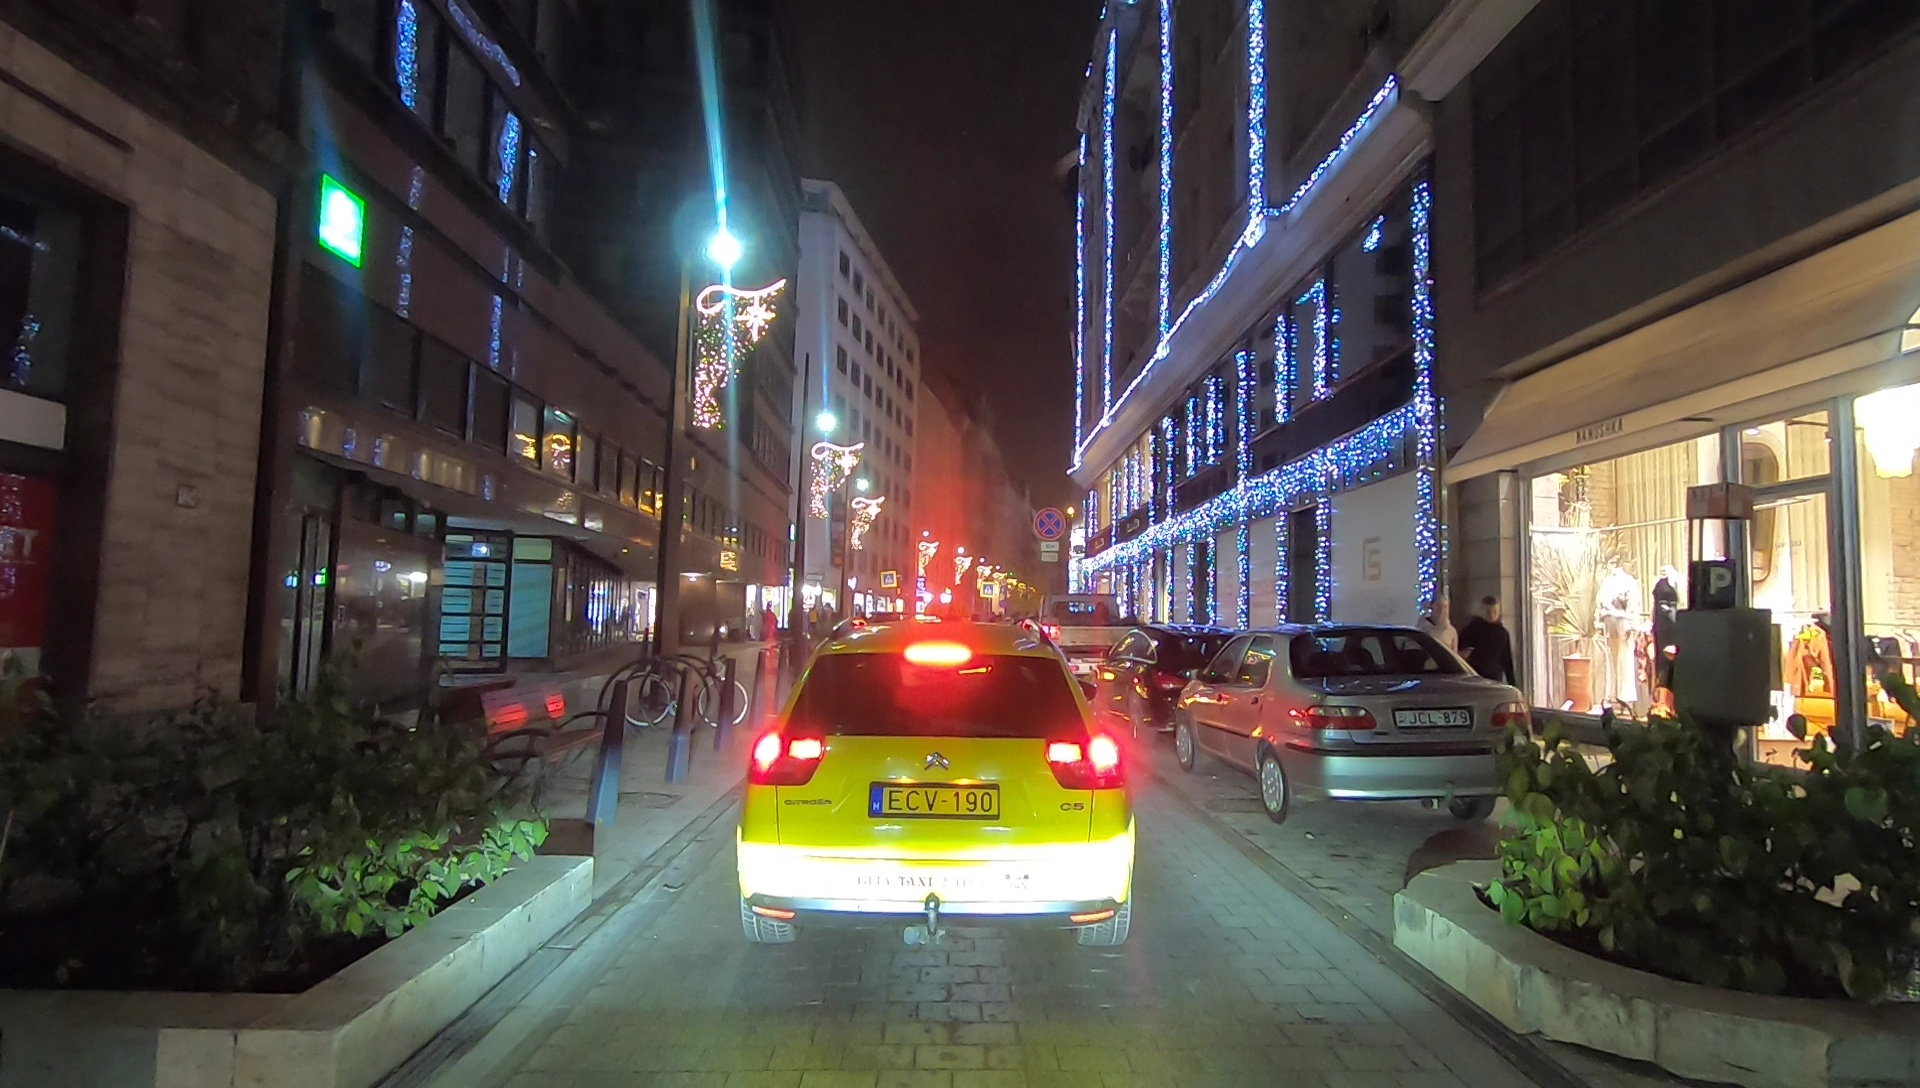person: (1467, 599, 1517, 734), (1415, 589, 1462, 704)
